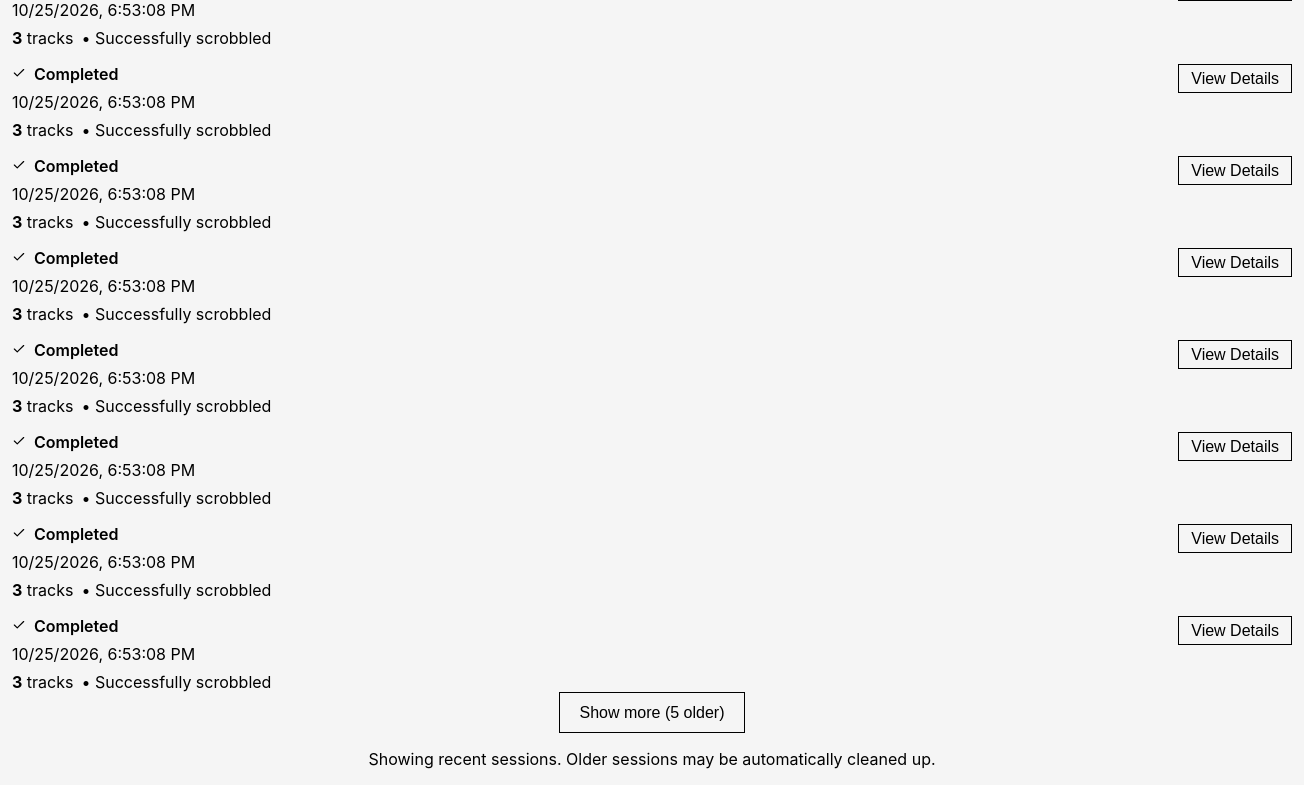
Test: HistoryPage › Paging › shows 20 sessions, then more on request
(page scrolled)
Step 1. Click the button "Show more (5 older)" → (652, 712), box [558,692,746,733]
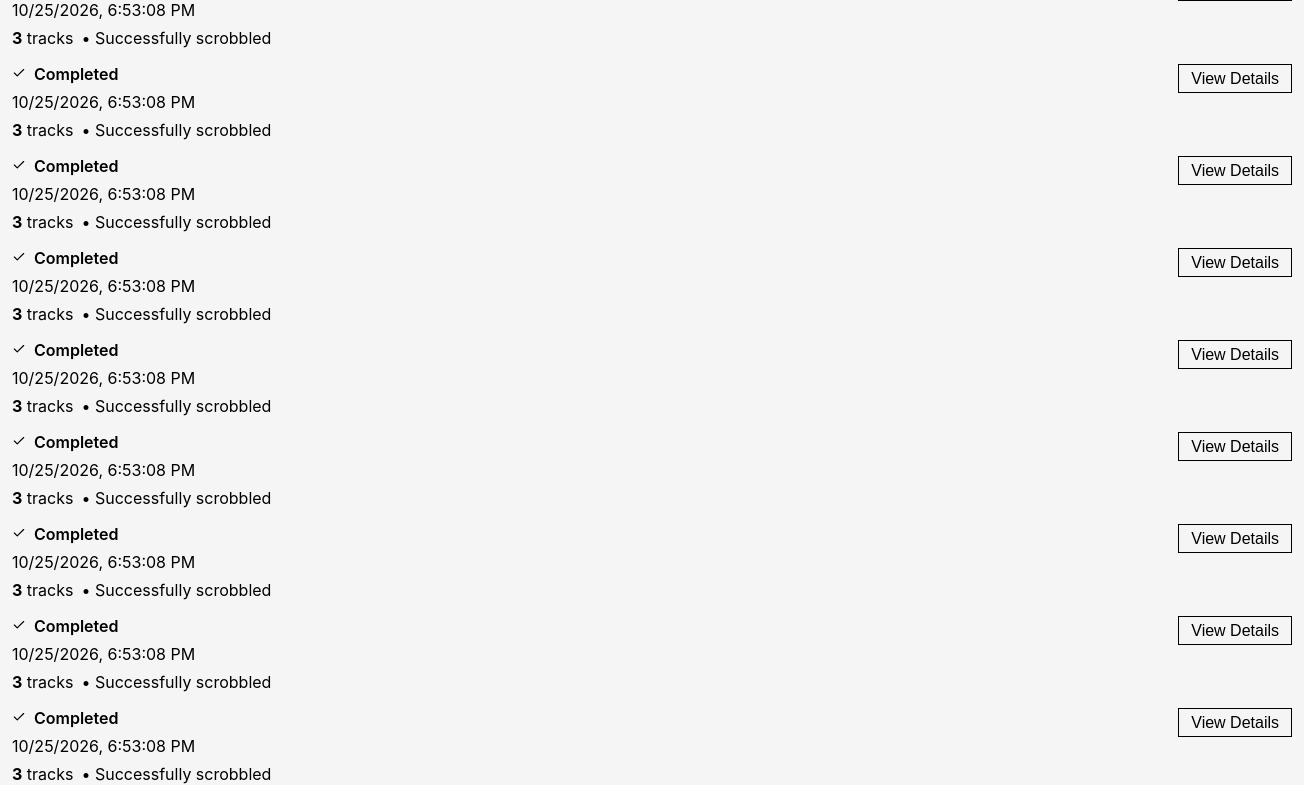
Expected: the button "Show more" is gone
